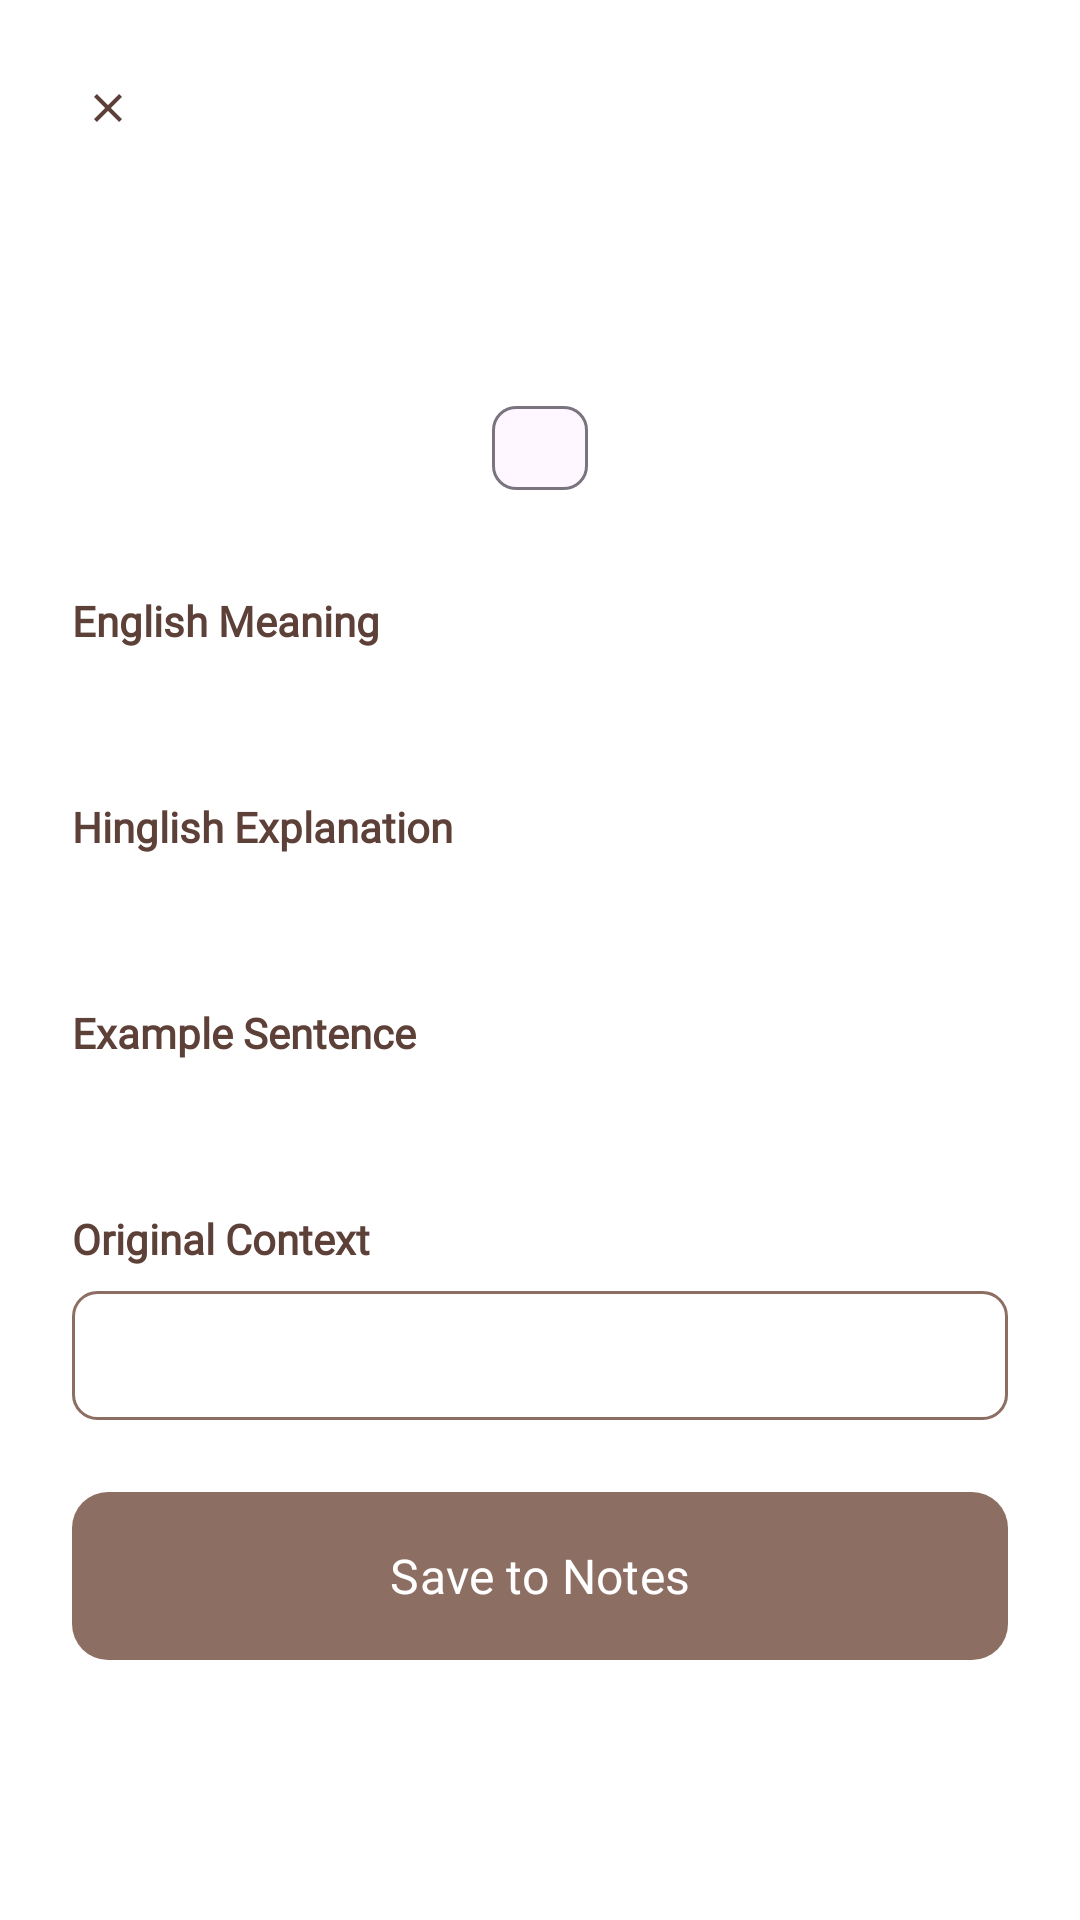

Where icons sit on this 1080 x 1920 app screen, as (x1, y1, x2, y2):
Close: (94, 94, 122, 122)
